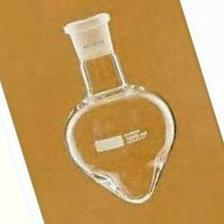Pear shaped flask: (44, 20, 180, 202)
